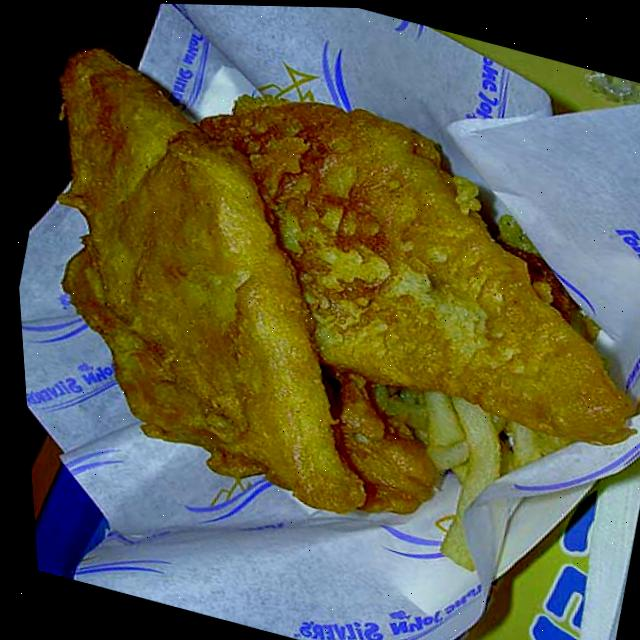炸货点心: (0, 5, 640, 640)
熟制海鲜: (0, 5, 640, 640)
